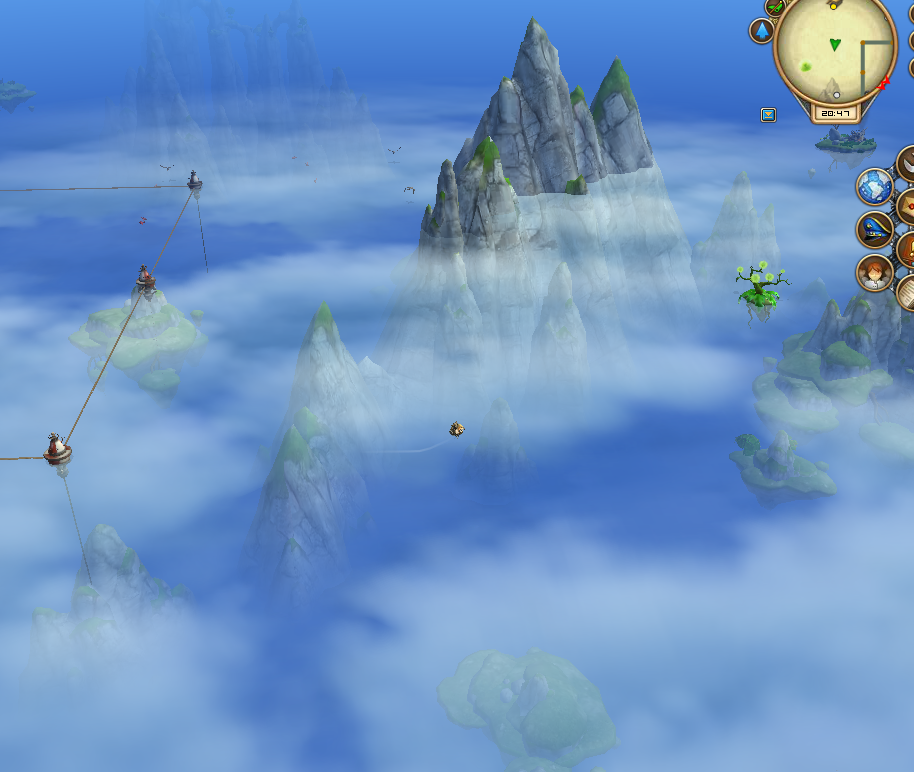dandelion-full: (729, 254, 794, 317)
